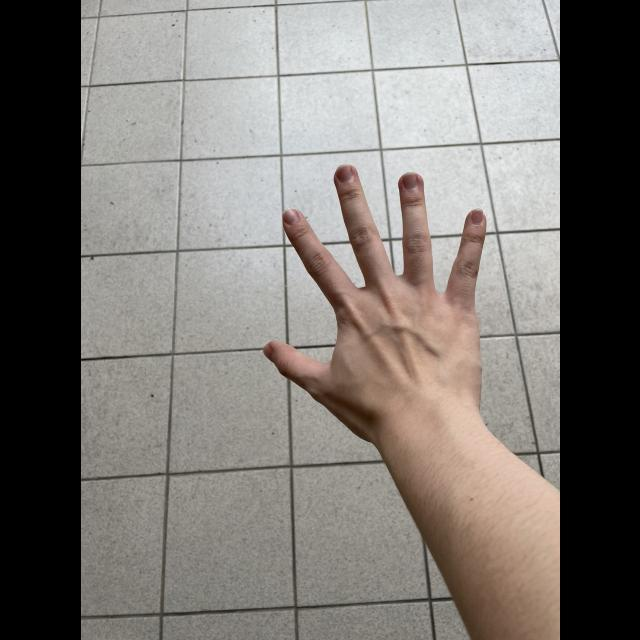bare_hand: (261, 161, 488, 426)
